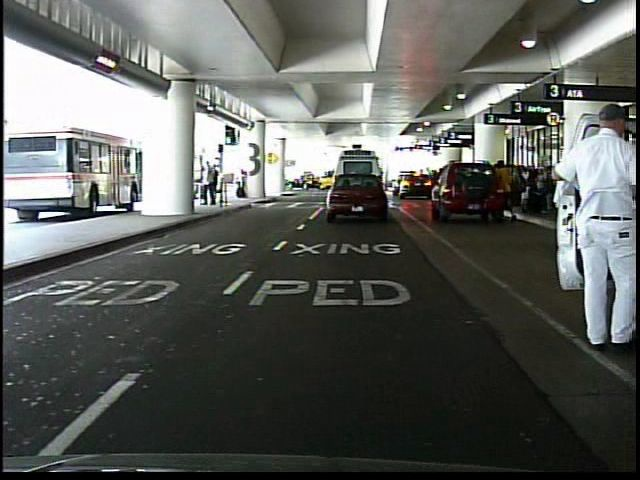person: (544, 98, 638, 357), (585, 149, 614, 224), (499, 157, 519, 223), (201, 155, 219, 209), (236, 166, 254, 202), (209, 162, 223, 208)
